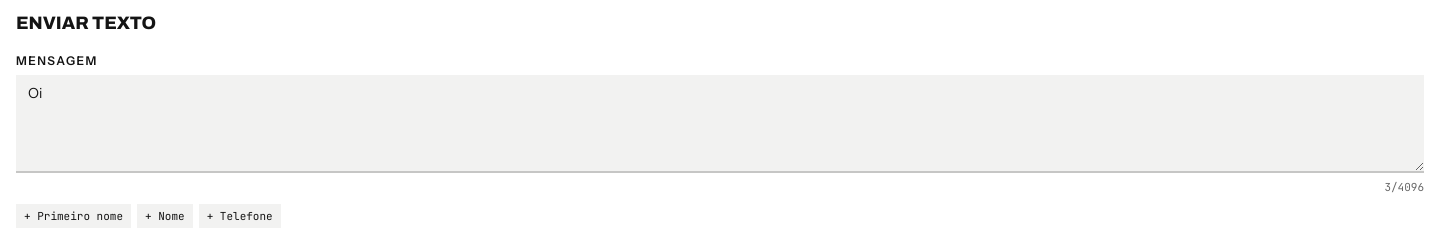
Test: NodeConfigPanel › inserts variables into the message text and counts characters
Step 1. Click the button "+ Primeiro nome" → (74, 216), box [16,204,131,228]
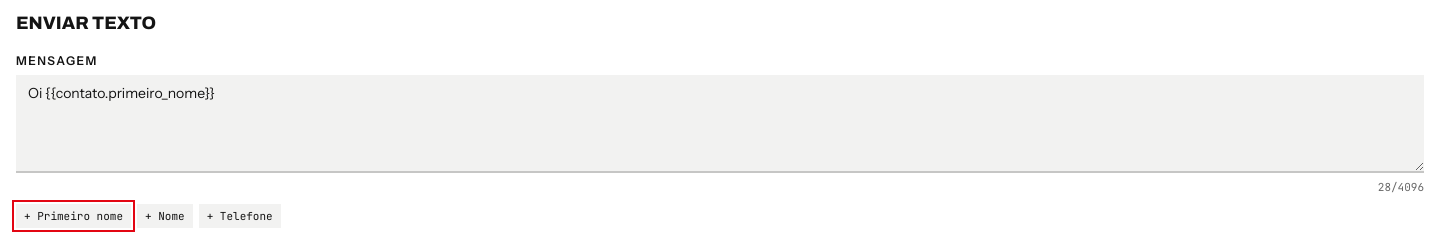
Expected: the text "28/4096" is shown, [1378,179,1424,196]
